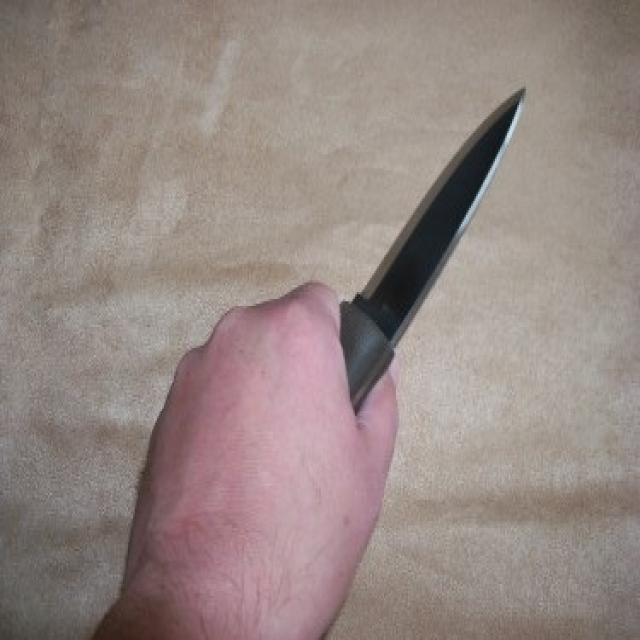knife: (338, 80, 534, 421)
